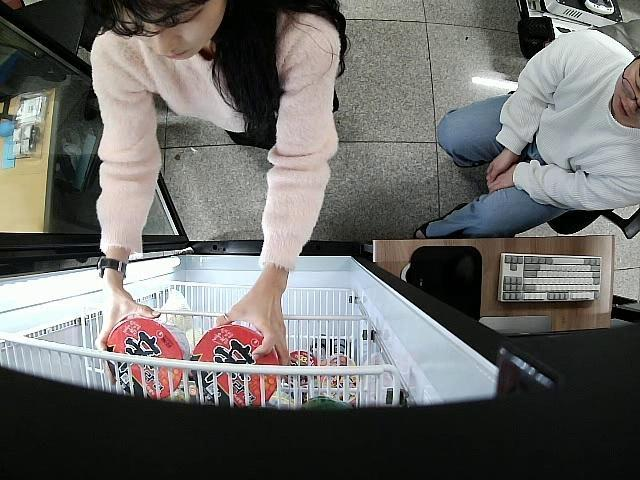01_ShinRamen_L: (194, 324, 278, 409), (104, 320, 188, 400)
